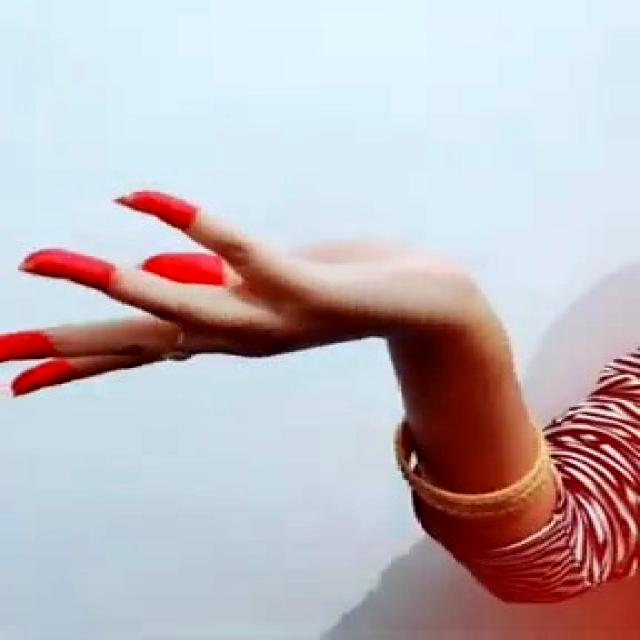Alapadma: (0, 175, 500, 418)
bangle: (358, 420, 576, 534)
